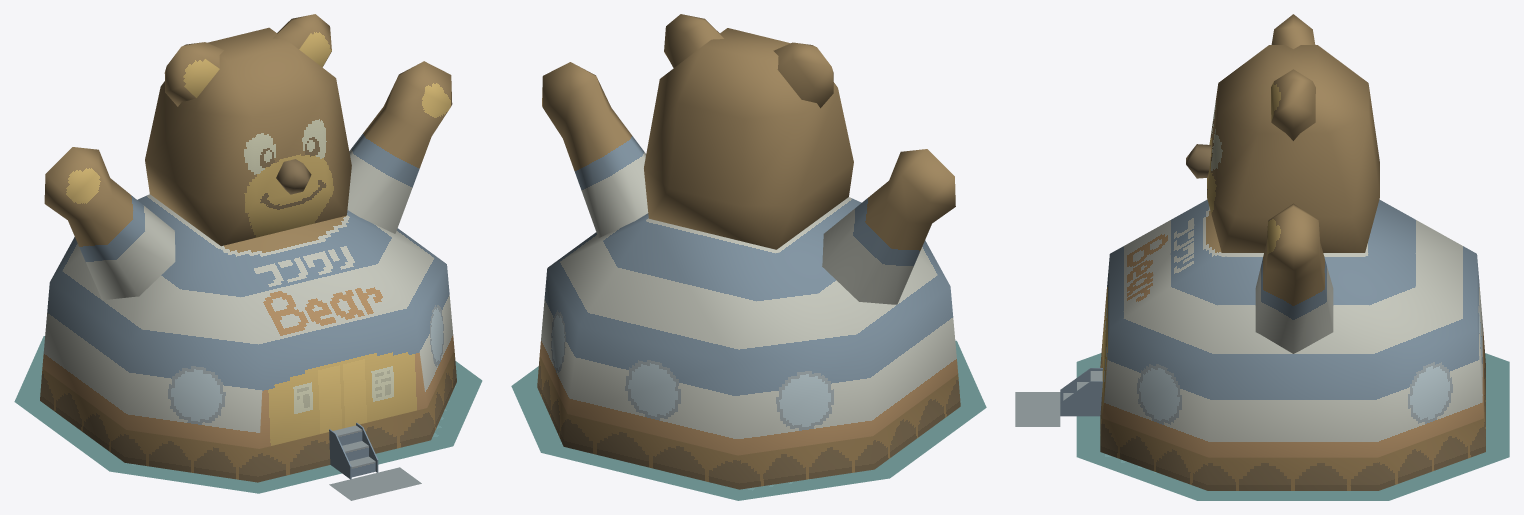
The model's file is 01d2_Jumping_Bear_Castle.glb.
3 renders of one model, left to right at view 1: azimuth 30°, elevation 25°; view 2: azimuth 150°, elevation 25°; view 3: azimuth 270°, elevation 25°, orthographic.
Visible parts, largest first — view 1: part_0; view 2: part_0; view 3: part_0.
Boxes of the visible parts, x1,y1,x2,y2 form: part_0: (14,14,482,500); part_0: (511,14,986,500); part_0: (1015,14,1509,500).
Size of the model in its own units: 10.09 by 8.53 by 10.54.
Materials: 1 (1 with a texture image).
